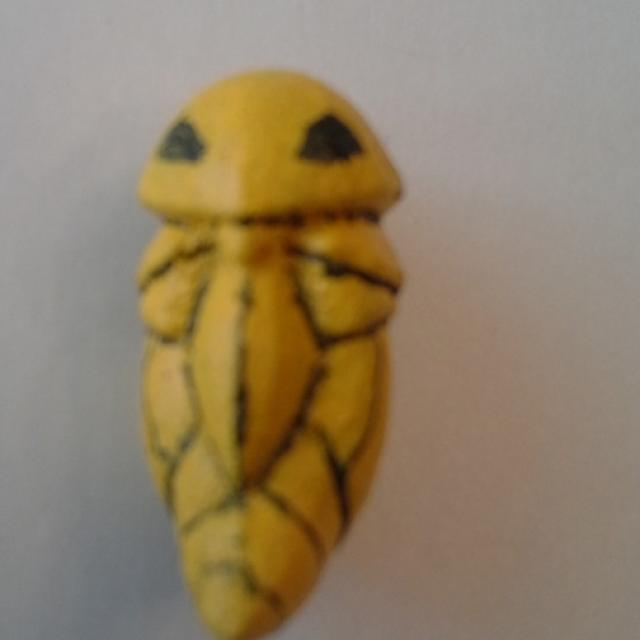Kakuna: (120, 60, 410, 640)
